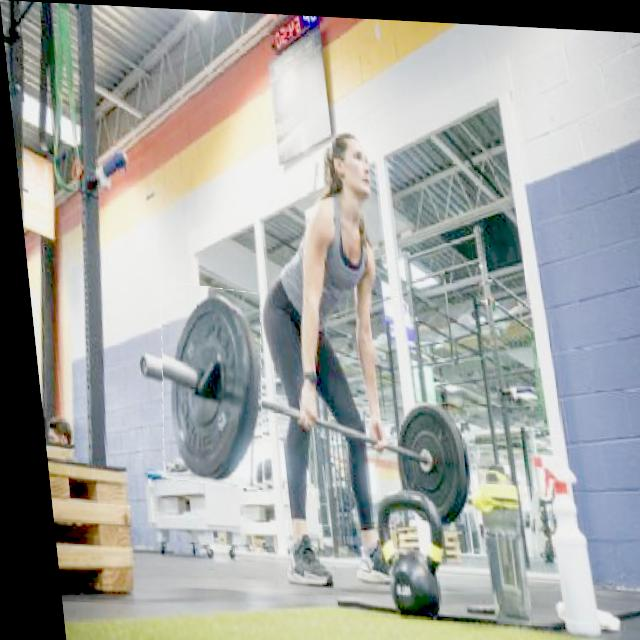barbell: (144, 282, 266, 488)
